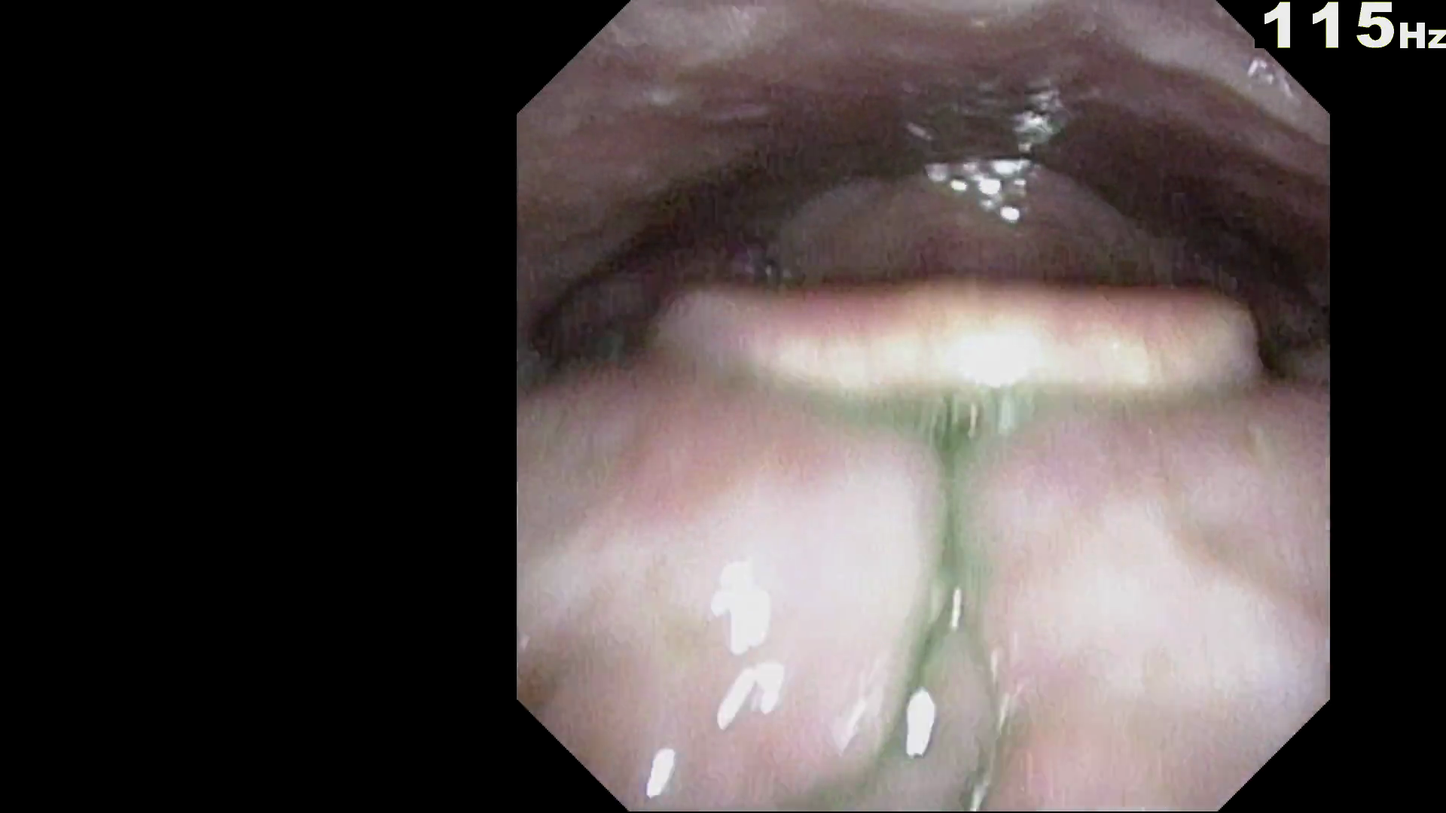epiglottis: (586, 282, 1296, 391)
